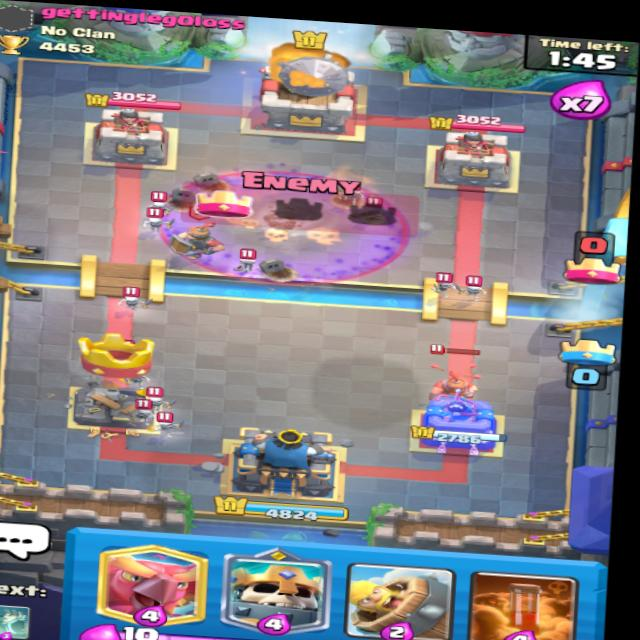graveyard: (155, 162, 414, 295)
rocket: (264, 51, 354, 107)
royal-recruits: (418, 350, 487, 414), (170, 219, 226, 263)
skeleton: (109, 281, 153, 314), (150, 404, 188, 436), (184, 172, 228, 195), (230, 247, 265, 273), (145, 386, 177, 407), (461, 274, 489, 297), (434, 275, 465, 295), (145, 213, 176, 233), (129, 404, 158, 423), (147, 192, 173, 212)
